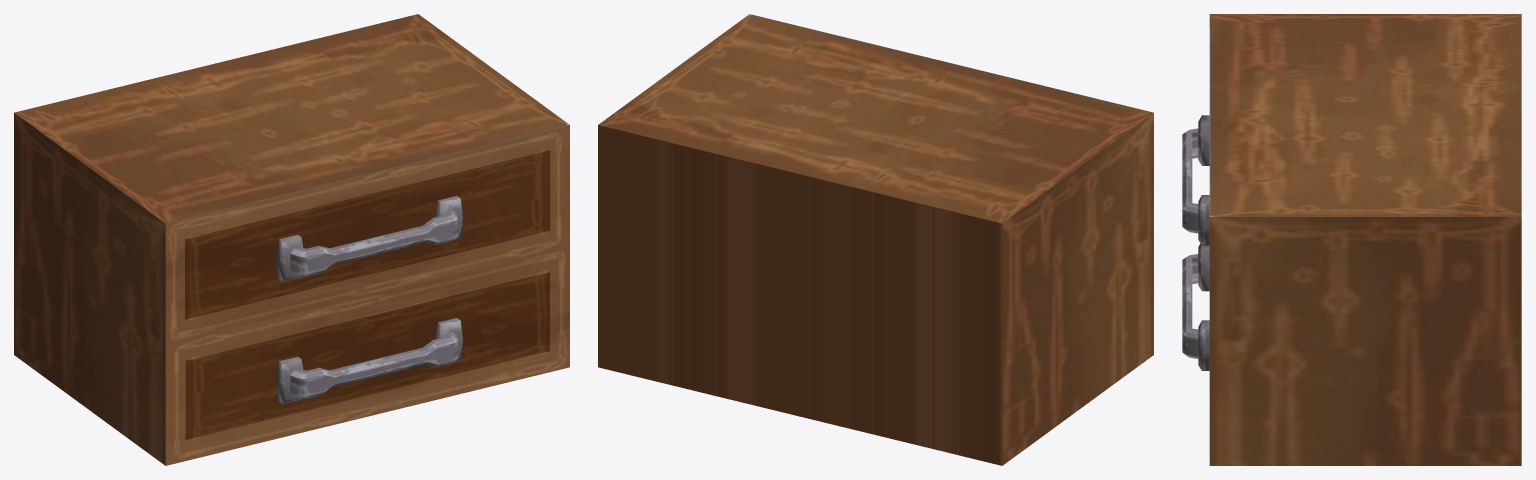
File: prop_workbench_drawers.glb
3 views of the same model, side by side, from view 1: azimuth 30°, elevation 25°; view 2: azimuth 150°, elevation 25°; view 3: azimuth 270°, elevation 25° (orthographic). The views are drawn at different scales.
Visible parts, largest first — view 1: Cube028, Cube028_1; view 2: Cube028; view 3: Cube028, Cube028_1.
Part boxes in pixels (x1=…): Cube028: x1=14, y1=14, x2=569, y2=465; Cube028_1: x1=276, y1=196, x2=463, y2=403; Cube028: x1=598, y1=14, x2=1153, y2=465; Cube028: x1=1209, y1=14, x2=1521, y2=465; Cube028_1: x1=1182, y1=115, x2=1209, y2=370.
Size of the model in its own units: 0.4231 by 0.2423 by 0.299.
2 materials, 2 textured.
